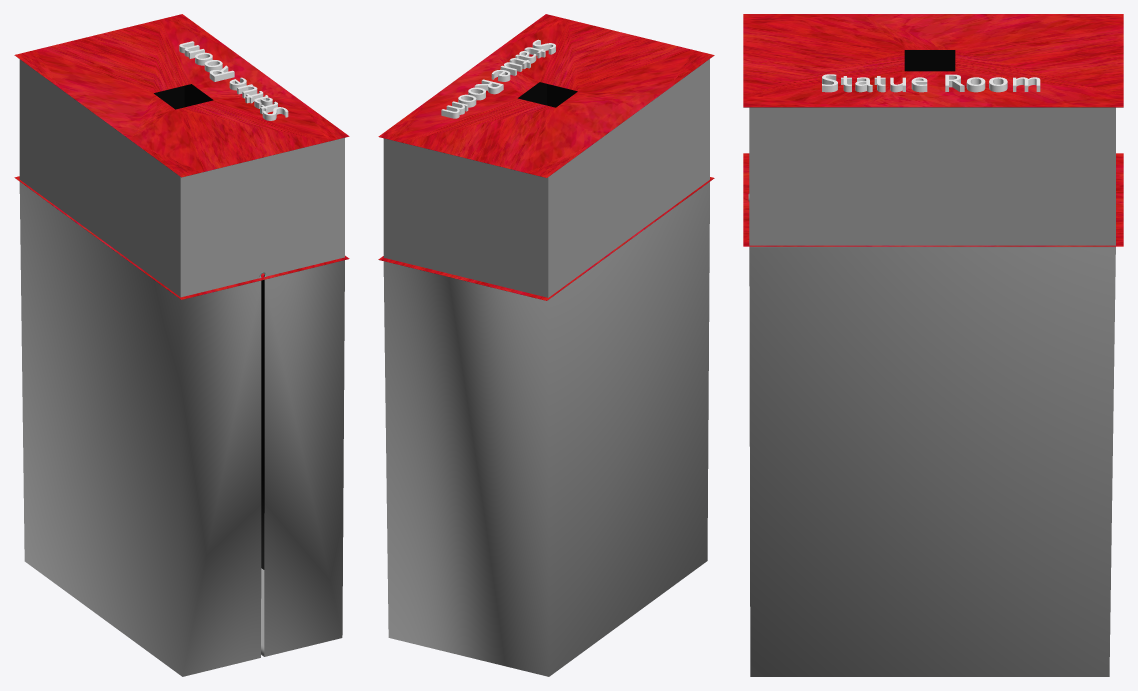
The model's file is Statue Room.fbx.
The picture shows the model from 3 angles, left to right: view 1: azimuth 30°, elevation 25°; view 2: azimuth 150°, elevation 25°; view 3: azimuth 270°, elevation 25°; orthographic projection. The views are drawn at different scales.
Visible parts, largest first — view 1: StatueRoomWalls, StatueRoomCeiling, typeMesh2, StatueRoomFloor1; view 2: StatueRoomWalls, StatueRoomCeiling, typeMesh2, StatueRoomFloor1; view 3: StatueRoomWalls, StatueRoomCeiling, typeMesh2, StatueRoomFloor1.
Boxes of the visible parts, left/top/right/bottom form: StatueRoomWalls: left=19, top=59, right=344, bottom=676; StatueRoomCeiling: left=14, top=14, right=349, bottom=177; typeMesh2: left=179, top=41, right=288, bottom=120; StatueRoomFloor1: left=14, top=176, right=349, bottom=299; StatueRoomWalls: left=383, top=59, right=709, bottom=676; StatueRoomCeiling: left=378, top=14, right=714, bottom=177; typeMesh2: left=441, top=39, right=555, bottom=118; StatueRoomFloor1: left=378, top=177, right=714, bottom=300; StatueRoomWalls: left=749, top=50, right=1115, bottom=676; StatueRoomCeiling: left=743, top=14, right=1123, bottom=107; typeMesh2: left=822, top=74, right=1040, bottom=92; StatueRoomFloor1: left=743, top=153, right=1123, bottom=246.
Bounding box in the file's own units: 7158 × 20695 × 12329.
8 materials, 2 textured.
